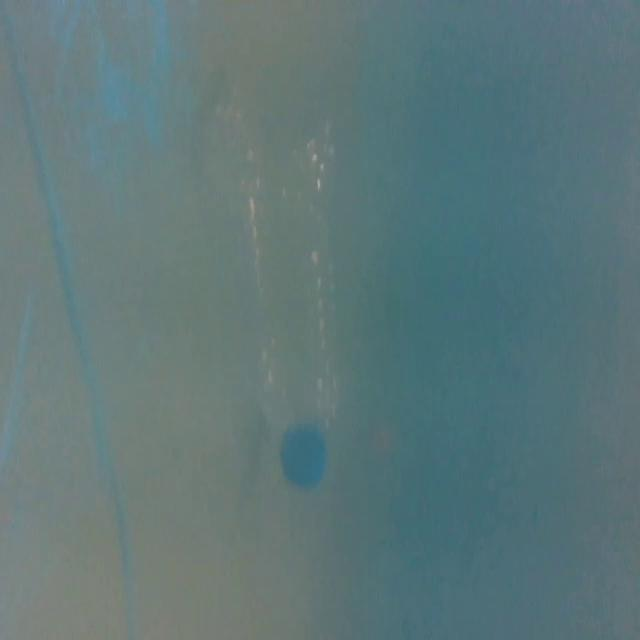plastic bottle: (231, 119, 348, 492)
